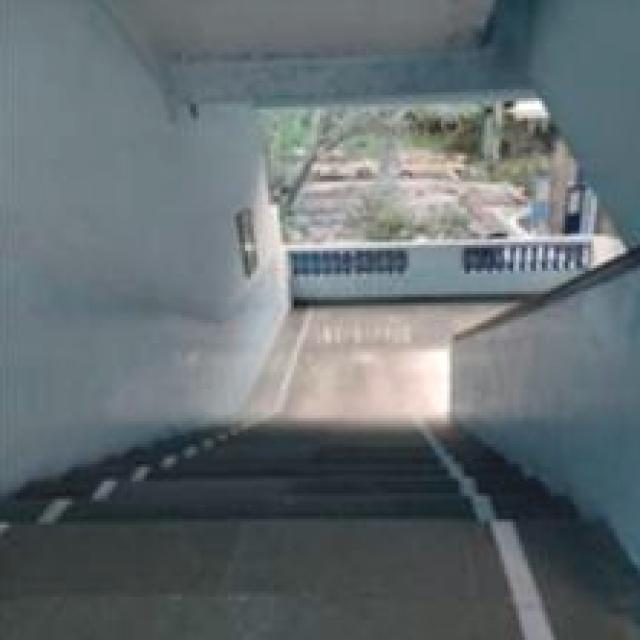downstair: (99, 396, 480, 578)
